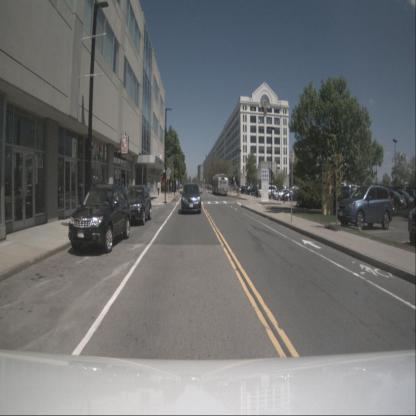human-pedestrian-adult: (256, 182, 259, 198), (157, 180, 160, 195), (148, 180, 150, 196), (170, 181, 172, 192)
vehicle-car: (68, 181, 131, 254), (335, 184, 392, 230), (121, 184, 152, 226), (180, 183, 202, 214), (282, 188, 304, 204), (258, 184, 278, 200), (274, 188, 294, 202), (246, 184, 267, 196)
